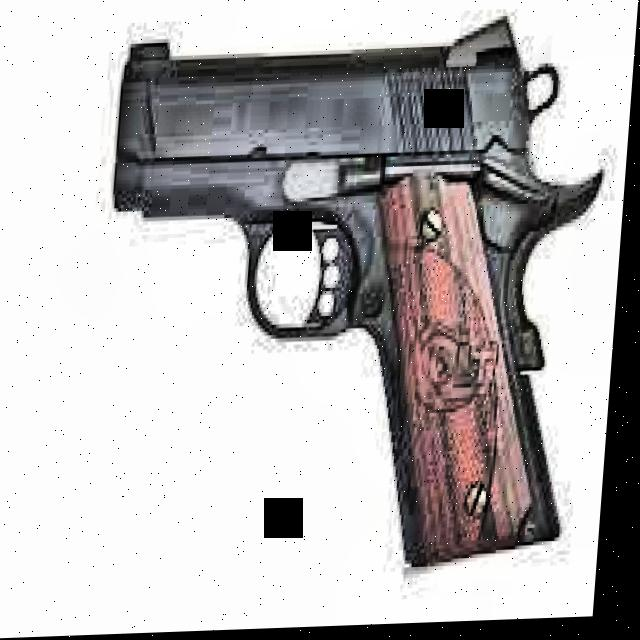Colt m1911: (89, 13, 617, 584)
